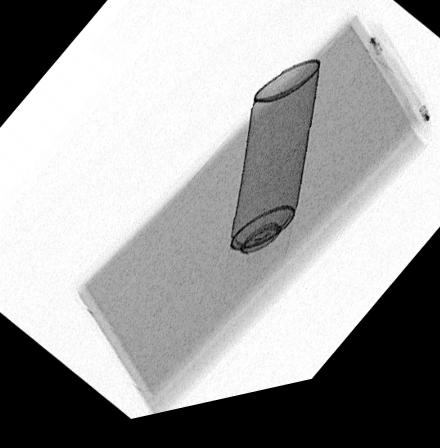Sprayer: (219, 70, 322, 303)
